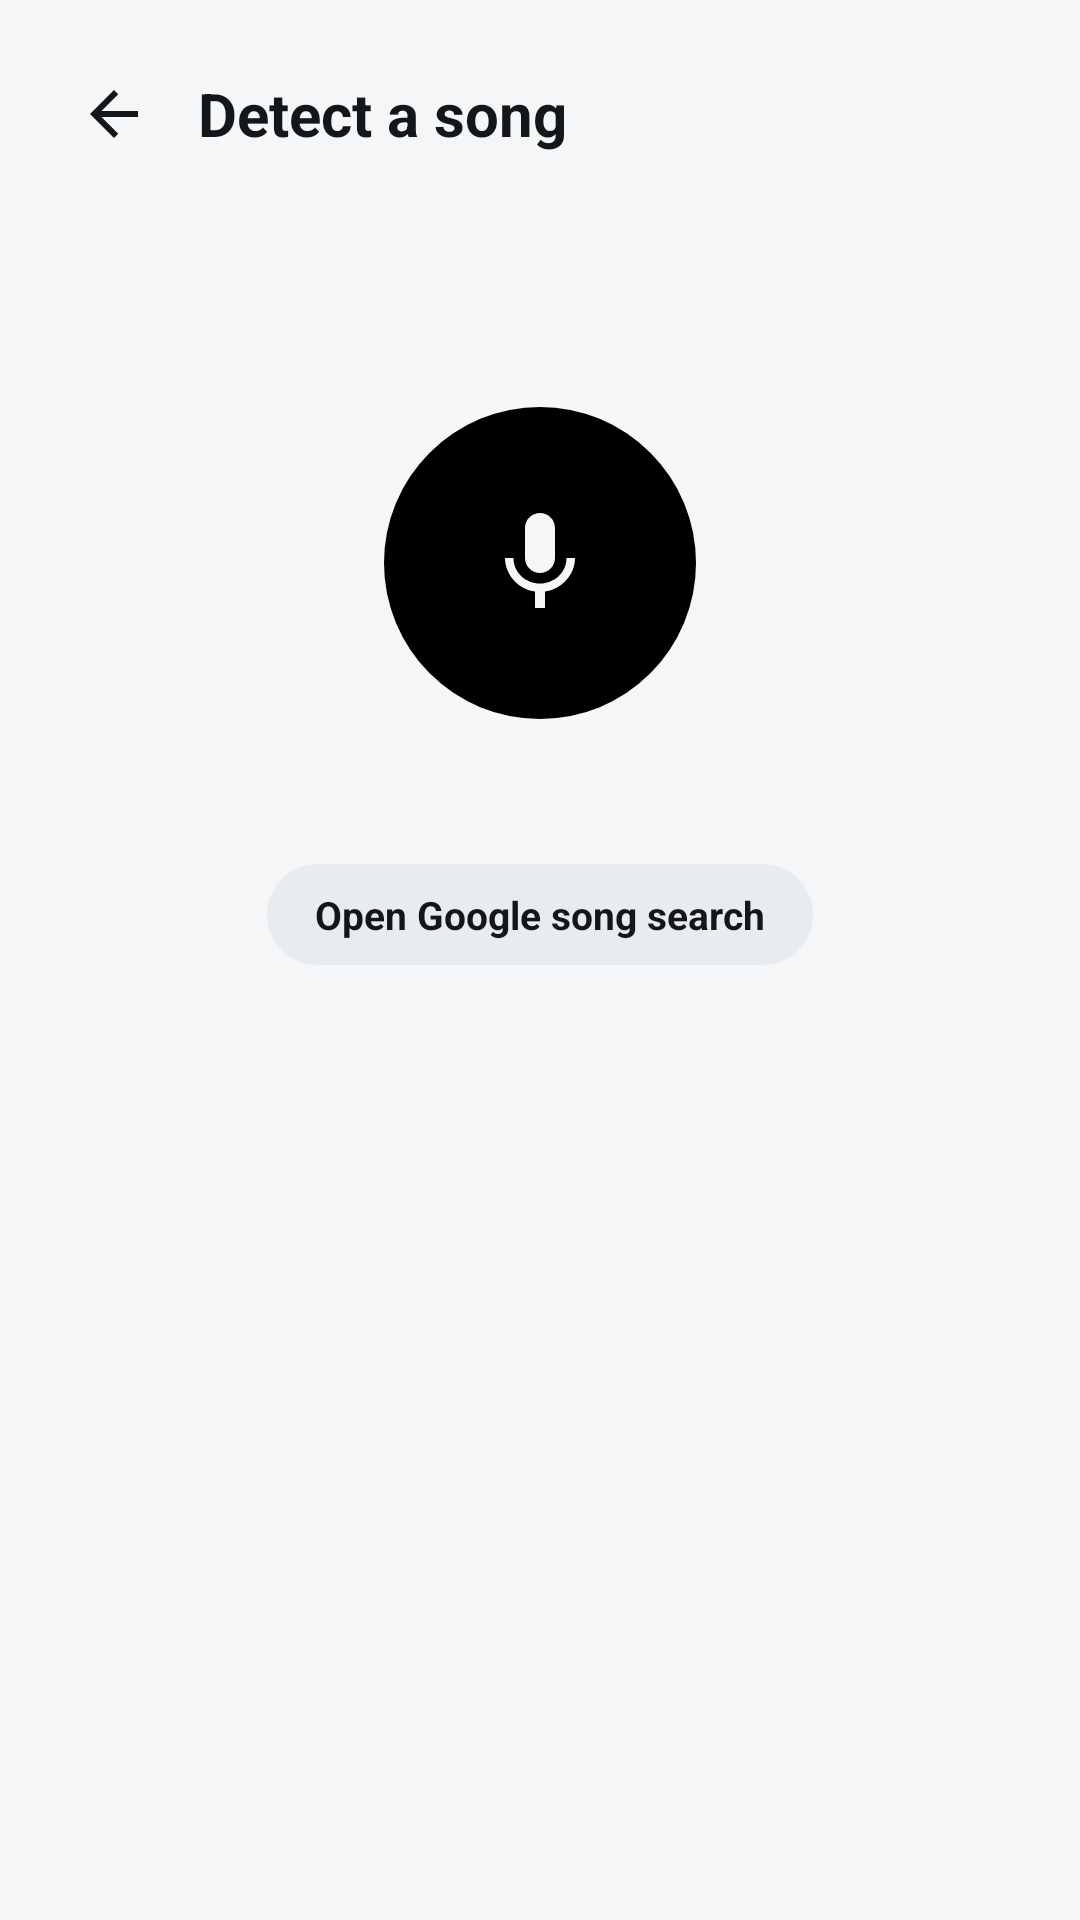

Screen size 1080w x 1920h. Icon name, then its center in pixels as (x,y):
Back: (114,114)
Start listening: (540,563)
